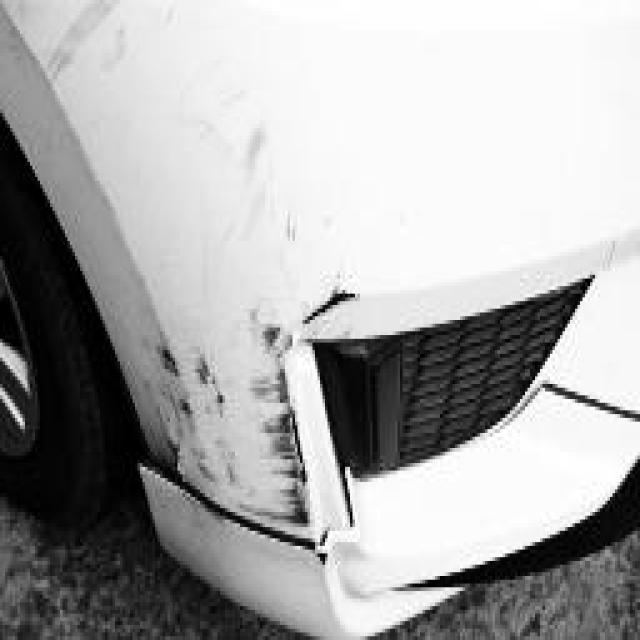Bumper: (73, 55, 387, 640)
